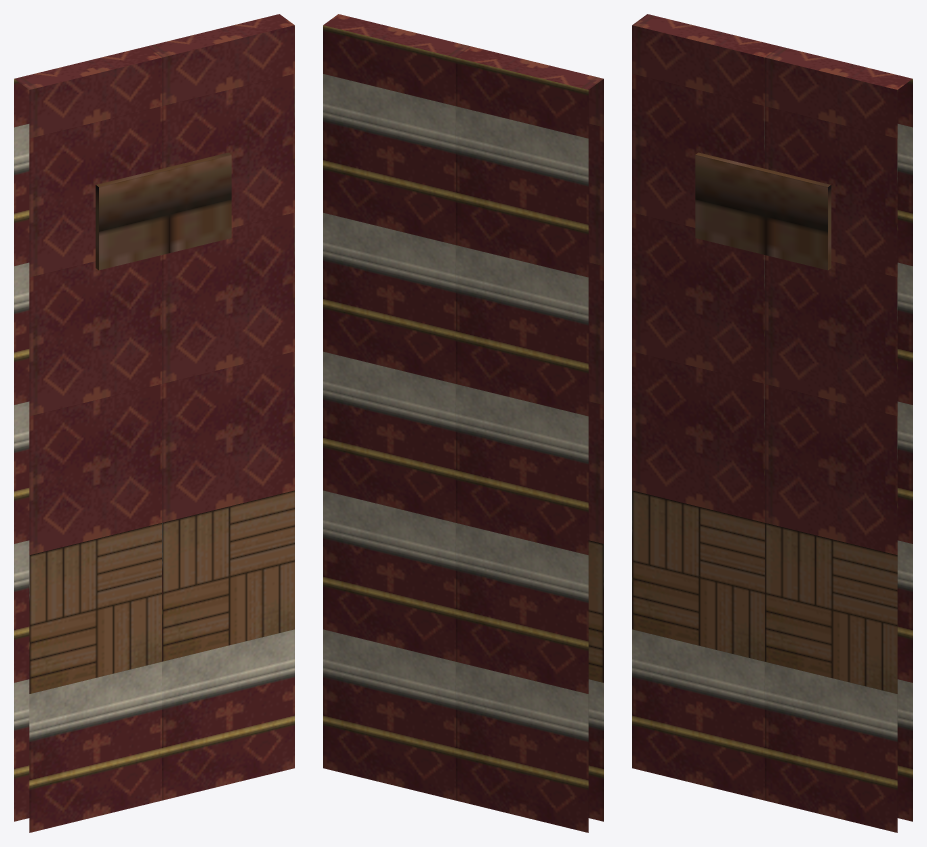
The model's file is track_wall_vent.fbx.
The picture shows the model from 3 angles, left to right: view 1: azimuth 30°, elevation 25°; view 2: azimuth 150°, elevation 25°; view 3: azimuth 330°, elevation 25°; orthographic projection.
Visible parts, largest first — view 1: track_wall_vent; view 2: track_wall_vent; view 3: track_wall_vent.
Boxes of the visible parts, x1,y1,x2,y2 form: track_wall_vent: (14, 14, 294, 832); track_wall_vent: (323, 14, 603, 832); track_wall_vent: (632, 14, 912, 832).
Size of the model in its own units: 2 by 5.35 by 0.24.
